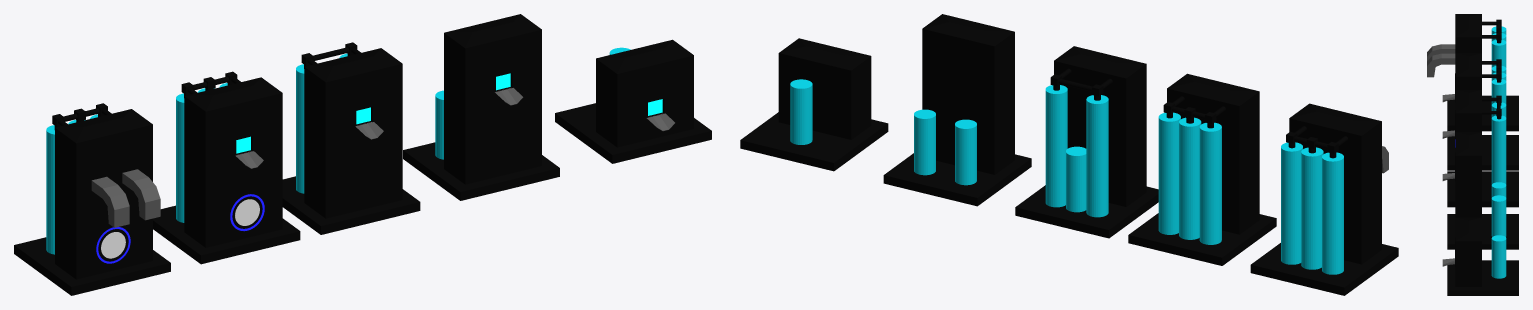
Rendered from FreezeTower.fbx.
The picture shows the model from 3 angles, left to right: view 1: azimuth 30°, elevation 25°; view 2: azimuth 150°, elevation 25°; view 3: azimuth 270°, elevation 25°; orthographic projection. The views are drawn at different scales.
Parts seen in each view (by area): view 1: Cube.004, Cube.003, Cube.002, Cube.001, Cube; view 2: Cube.004, Cube.003, Cube.002, Cube.001, Cube; view 3: Cube.001, Cube, Cube.002, Cube.004, Cube.003.
Part boxes in pixels (x1,y1,x2,y2): Cube.004: (14, 103, 170, 295); Cube.003: (153, 71, 300, 264); Cube.002: (282, 42, 420, 234); Cube.001: (403, 14, 559, 200); Cube: (555, 39, 711, 163); Cube.004: (1250, 103, 1398, 295); Cube.003: (1128, 73, 1276, 265); Cube.002: (1015, 46, 1158, 238); Cube.001: (883, 14, 1031, 206); Cube: (740, 38, 888, 171); Cube.001: (1442, 132, 1518, 249); Cube: (1442, 217, 1518, 295); Cube.002: (1442, 90, 1518, 207); Cube.004: (1427, 14, 1518, 131); Cube.003: (1442, 53, 1518, 170).
Size of the model in its own units: 1288 by 286 by 257.
